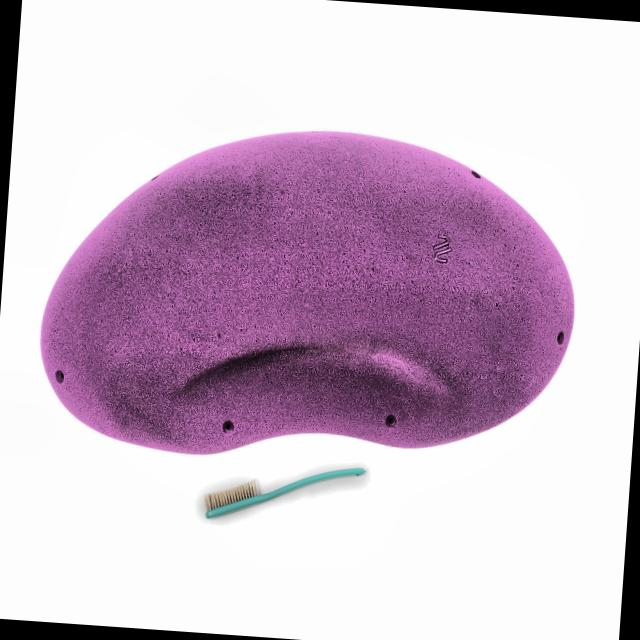Hold: (28, 105, 592, 470)
